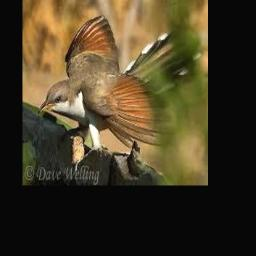Cuckoo: (38, 15, 200, 150)
